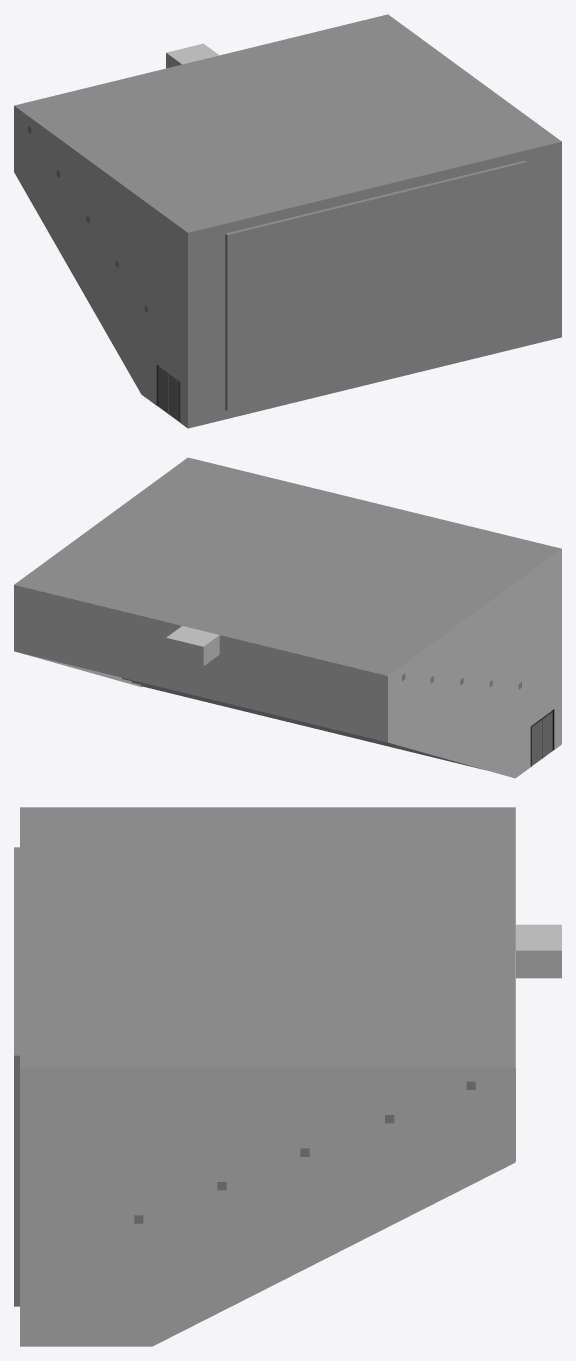
File: RoomTest.FBX
3 views of the same model, one above another, from view 1: azimuth 30°, elevation 25°; view 2: azimuth 150°, elevation 25°; view 3: azimuth 270°, elevation 25° (orthographic). The views are drawn at different scales.
Parts seen in each view (by area): view 1: Theater_FrontWall, Theater_Ceiling, Theater_Wall, Door_Frame; view 2: Theater_Ceiling, Theater_Wall, Theater_Floor, Door_Frame, Theater_BackLight; view 3: Theater_Ceiling, Theater_Wall, Theater_FrontWall.
Boxes of the visible parts, x1,y1,x2,y2 form: Theater_FrontWall: [188, 141, 561, 428]; Theater_Ceiling: [14, 14, 561, 232]; Theater_Wall: [14, 43, 219, 428]; Door_Frame: [156, 365, 180, 422]; Theater_Ceiling: [14, 457, 561, 675]; Theater_Wall: [14, 549, 561, 778]; Theater_Floor: [122, 677, 553, 769]; Door_Frame: [530, 709, 554, 766]; Theater_BackLight: [166, 637, 203, 666]; Theater_Ceiling: [20, 807, 515, 1067]; Theater_Wall: [20, 924, 561, 1346]; Theater_FrontWall: [14, 847, 19, 1306].
Size of the model in its own units: 2000 by 1780 by 1000.
